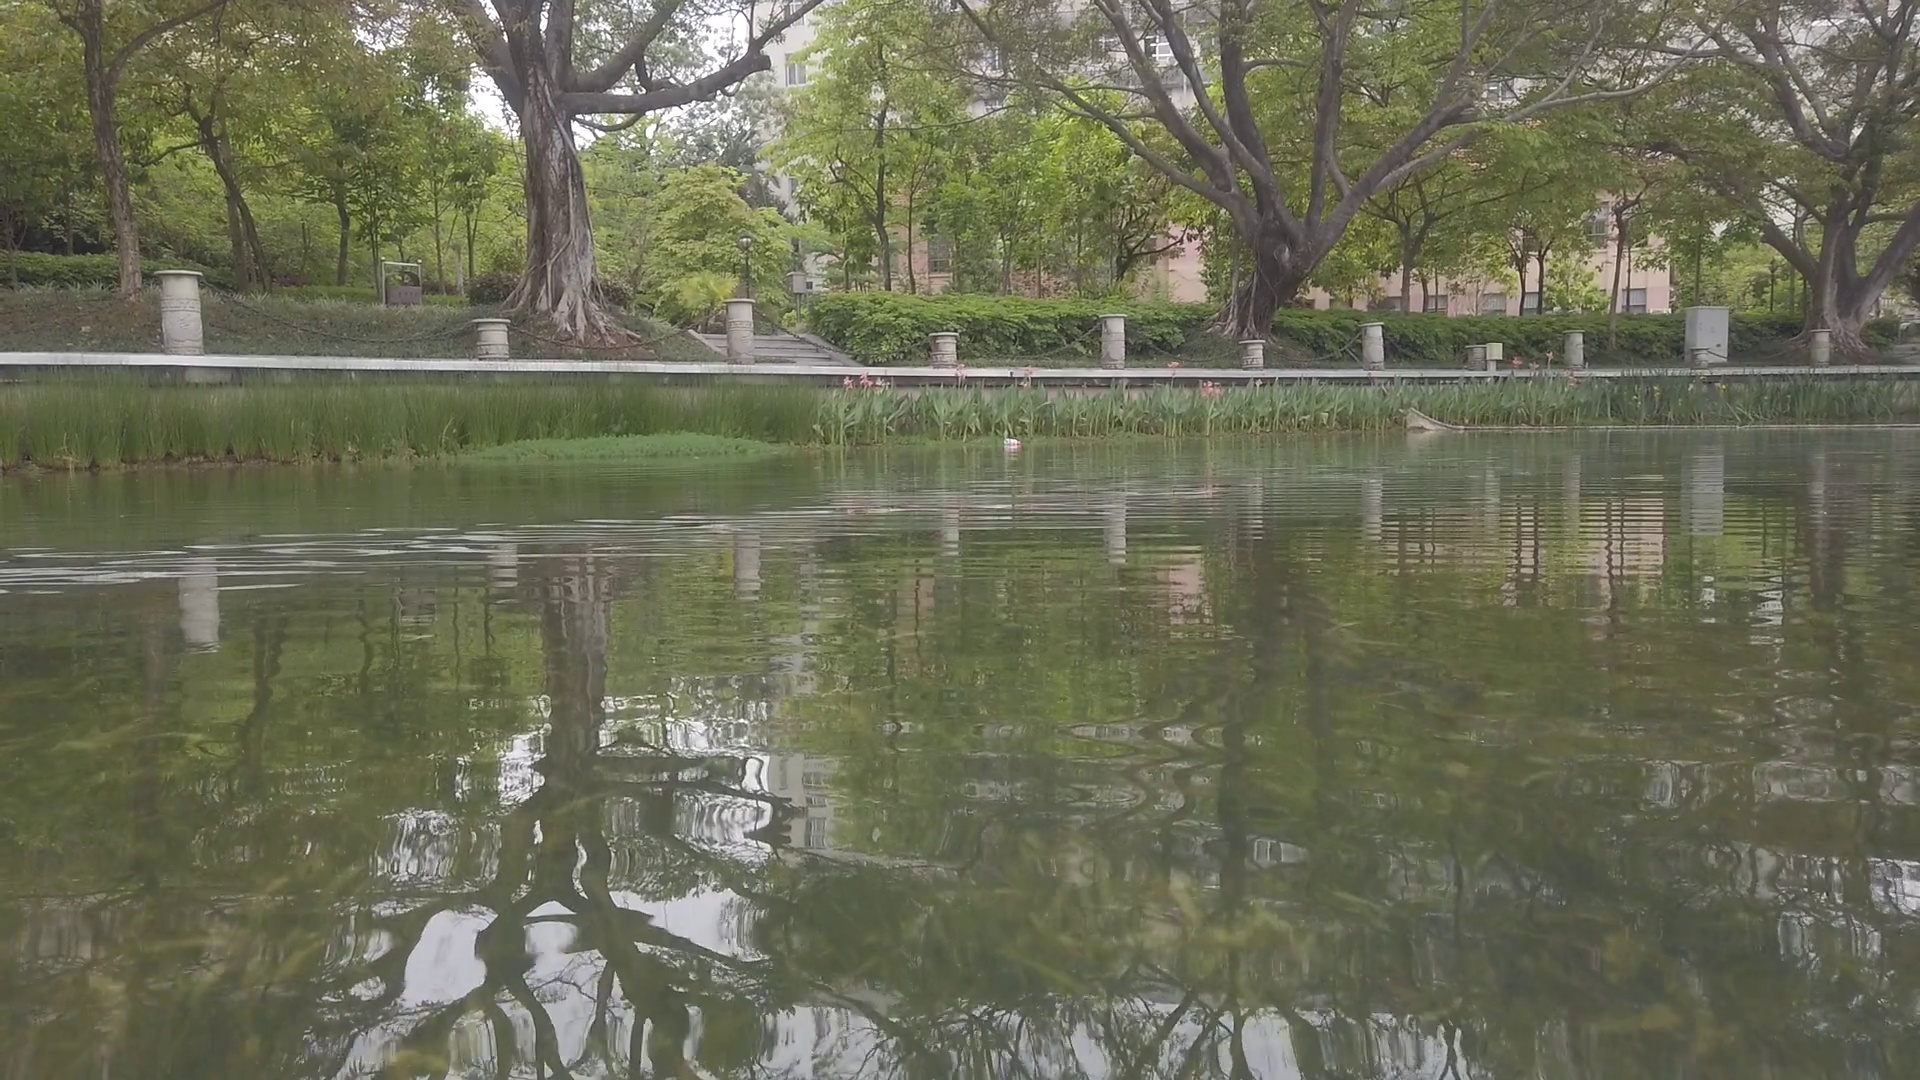bottle: (1005, 438, 1021, 444)
